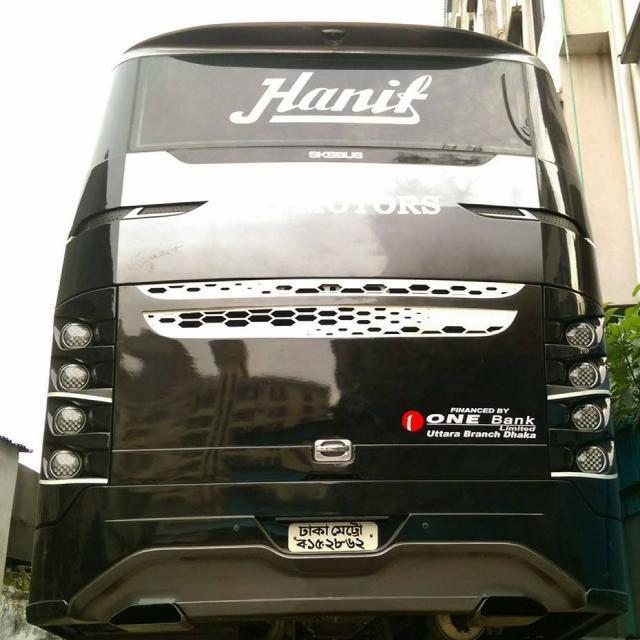bus: (20, 20, 634, 637)
